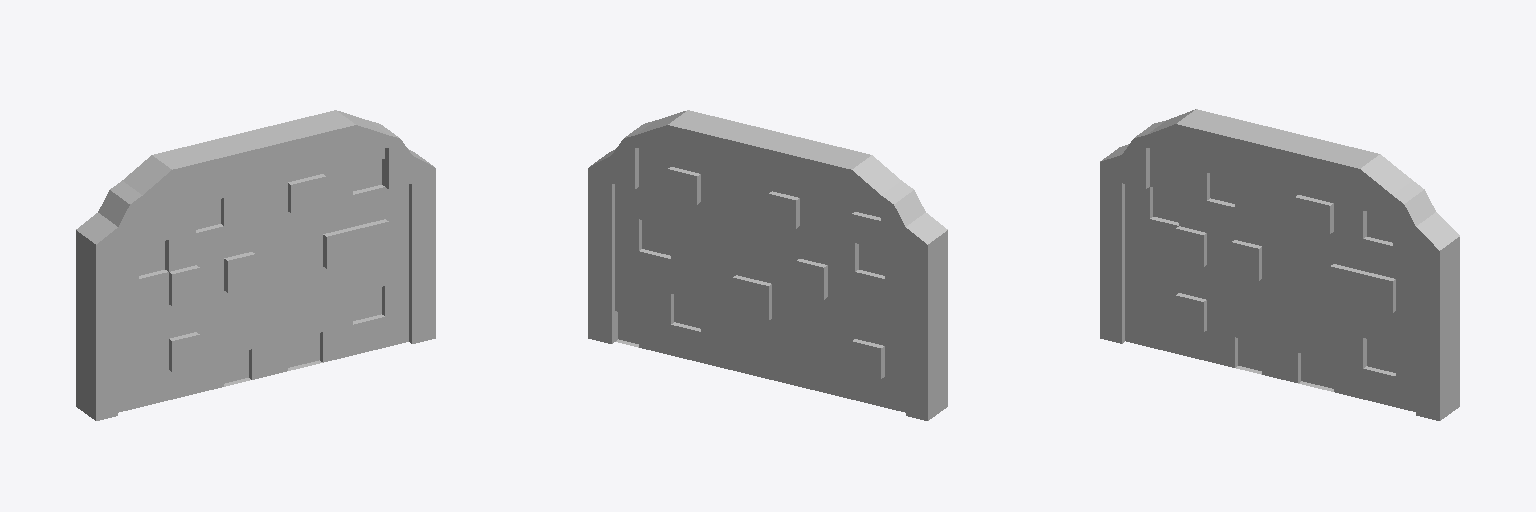
Rendered from wall medium.obj.
The picture shows the model from 3 angles: view 1: azimuth 30°, elevation 25°; view 2: azimuth 150°, elevation 25°; view 3: azimuth 330°, elevation 25°; orthographic projection.
Parts seen in each view (by area): view 1: cube; view 2: cube; view 3: cube.
Boxes of the visible parts, x1,y1,x2,y2 form: cube: [76, 110, 435, 420]; cube: [588, 110, 947, 420]; cube: [1100, 109, 1459, 420].
Size of the model in its own units: 3.62 by 2.38 by 0.375.